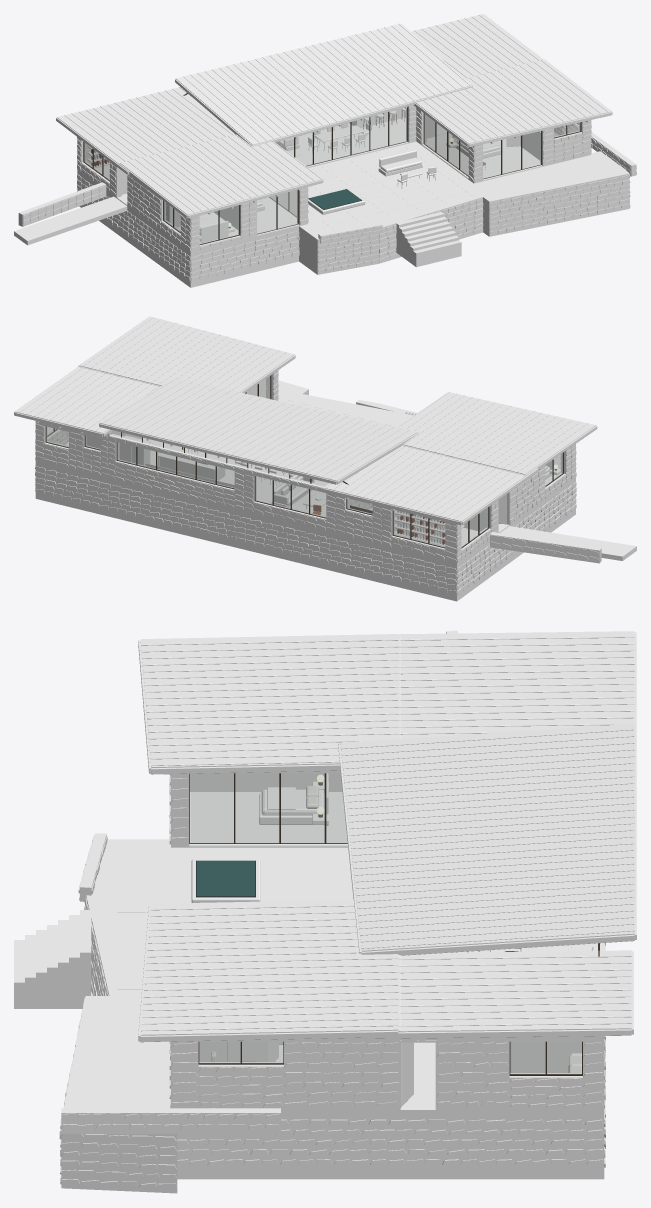
The model's file is LAKOTAH_HOUSE.glb.
The picture shows the model from 3 angles, top to bottom: view 1: azimuth 30°, elevation 25°; view 2: azimuth 150°, elevation 25°; view 3: azimuth 270°, elevation 25°; orthographic projection. The views are drawn at different scales.
Parts seen in each view (by area): view 1: Angular foothill stone / actual geometry, Great room floating roof, Courtyard stone terrace, Guest pavilion roof, Primary pavilion roof, Office roof, Primary private terrace, Service roof, Great room courtyard glazing 0, Honed interior floor 1, Stone hillside plinth 1, Honed interior floor 3 (+21 smaller); view 2: Angular foothill stone / actual geometry, Great room floating roof, Guest pavilion roof, Primary pavilion roof, Office roof, Stone hillside plinth 0, Service roof, Enclosed slab 1, North facade glazing 3, North facade glazing 2, Courtyard stone terrace, Honed interior floor 1 (+13 smaller); view 3: Great room floating roof, Angular foothill stone / actual geometry, Guest pavilion roof, Primary pavilion roof, Office roof, Service roof, Courtyard stone terrace, Primary private terrace, Guest courtyard facade glazing 0, Honed interior floor 2, Stone hillside plinth 0, Stone hillside plinth 2 (+29 smaller).
Boxes of the visible parts, x1,y1,x2,y2 form: Angular foothill stone / actual geometry: (23, 105, 636, 281); Great room floating roof: (176, 23, 471, 145); Courtyard stone terrace: (272, 141, 482, 274); Guest pavilion roof: (120, 134, 322, 215); Primary pavilion roof: (416, 59, 611, 143); Office roof: (57, 87, 235, 171); Primary private terrace: (465, 151, 629, 236); Service roof: (411, 14, 542, 78); Great room courtyard glazing 0: (276, 108, 406, 165); Honed interior floor 1: (96, 117, 446, 204); Stone hillside plinth 1: (133, 215, 298, 287); Honed interior floor 3: (422, 132, 554, 180); Angular foothill stone / actual geometry: (35, 370, 599, 594); Great room floating roof: (100, 378, 417, 481); Guest pavilion roof: (397, 392, 595, 474); Primary pavilion roof: (79, 316, 294, 392); Office roof: (324, 445, 537, 521); Stone hillside plinth 0: (35, 465, 515, 601); Service roof: (15, 367, 159, 433); Enclosed slab 1: (35, 461, 515, 568); North facade glazing 3: (117, 442, 234, 488); North facade glazing 2: (256, 476, 325, 517); Courtyard stone terrace: (290, 394, 413, 427); Honed interior floor 1: (65, 437, 508, 545); Great room floating roof: (340, 723, 634, 951); Angular foothill stone / actual geometry: (59, 770, 605, 1192); Guest pavilion roof: (140, 634, 398, 767); Primary pavilion roof: (140, 899, 398, 1035); Office roof: (398, 631, 634, 738); Service roof: (400, 950, 631, 1032); Courtyard stone terrace: (86, 839, 353, 995); Primary private terrace: (61, 996, 177, 1193); Guest courtyard facade glazing 0: (190, 773, 347, 842); Honed interior floor 2: (189, 792, 347, 846); Stone hillside plinth 0: (390, 1119, 604, 1179); Stone hillside plinth 2: (177, 1119, 390, 1179).
Bounding box in the file's own units: 38.24 × 6.59 × 20.42.
